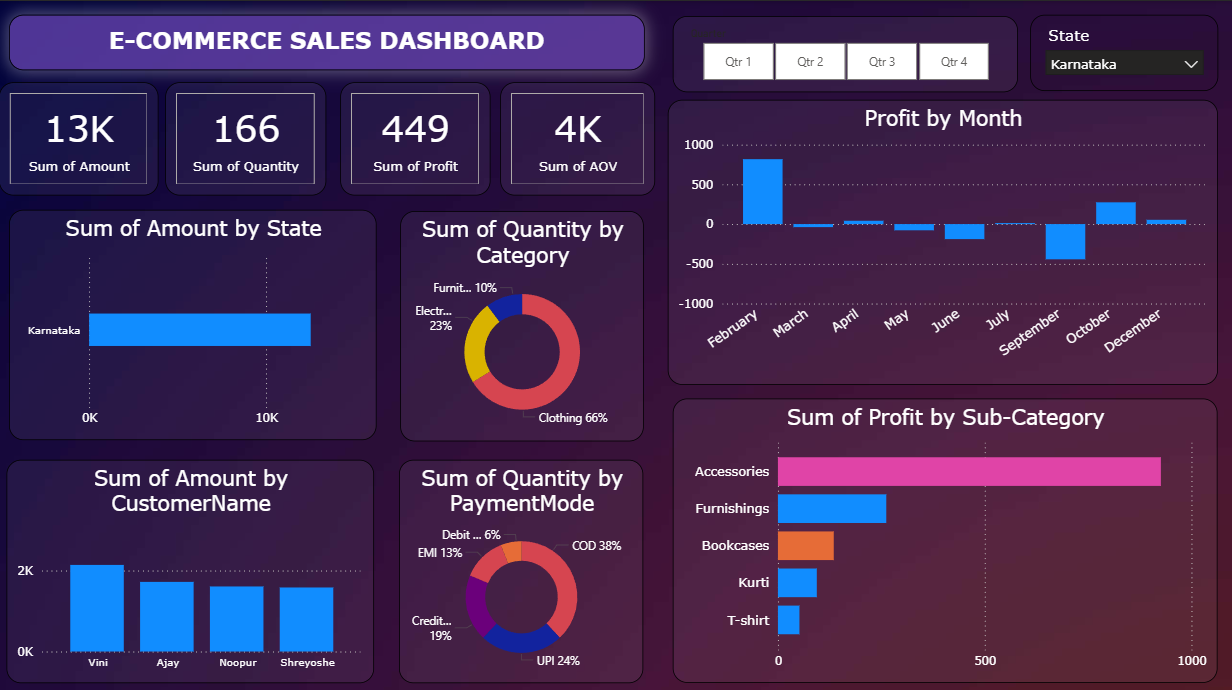

Layout of this report page (visuals, bound fields, positions):
{"tool":"powerbi","page":{"name":"Page 1","canvas":[1280,720],"ordinal":0},"visuals":[{"type":"textbox","box":[9.8,14.7,660.1,57.7],"z":0},{"type":"columnChart","title":"Profit by Month","fields":{"Category":["Orders.Order Date.Variation.Date Hierarchy.Month"],"Y":["Details.Profit"]},"box":[694.3,102.9,570.8,296.4],"z":1000},{"type":"barChart","fields":{"Category":["Details.Sub-Category"],"Y":["Details.Profit"]},"box":[699.8,413,565.4,295],"z":2000},{"type":"donutChart","fields":{"Y":["Details.Quantity"],"Category":["Details.Category"]},"box":[417.2,218.4,252.8,239.3],"z":3000},{"type":"donutChart","fields":{"Category":["Details.PaymentMode"],"Y":["Details.Quantity"]},"box":[415.8,476.2,253.9,231.9],"z":4000},{"type":"cardVisual","fields":{"Data":["Details.Amount"]},"box":[0,84.7,165.6,117.8],"z":5000},{"type":"cardVisual","fields":{"Data":["Details.Quantity"]},"box":[173,84.7,166.9,117.8],"z":6000},{"type":"cardVisual","fields":{"Data":["Details.Profit"]},"box":[354.6,84.7,155.8,117.8],"z":7000},{"type":"cardVisual","fields":{"Data":["Details.AverageOrderValue"]},"box":[520.2,84.7,160.7,117.8],"z":8000},{"type":"barChart","fields":{"Y":["Details.Amount"],"Category":["Orders.State"]},"box":[9.8,217.2,381.6,239.3],"z":9000},{"type":"columnChart","fields":{"Category":["Orders.CustomerName"],"Y":["Details.Amount"]},"box":[8.2,476.2,381.5,231.9],"z":10000},{"type":"slicer","fields":{"Values":["Orders.Order Date.Variation.Date Hierarchy.Quarter"]},"box":[699.8,15.1,358.1,79.6],"z":11000},{"type":"slicer","fields":{"Values":["Orders.State"]},"box":[1070,14.8,195.4,79.5],"z":12000}]}

Visuals, with their boxes in screenshot pixels (x1, y1, x2, y2), scaled from the page's 1280x720 canvas onto the 1232x690 screenshot:
textbox: pyautogui.locateOnScreen(9, 14, 645, 69)
"Profit by Month" columnChart: pyautogui.locateOnScreen(668, 99, 1218, 383)
barChart - Details.Sub-Category x Details.Profit: pyautogui.locateOnScreen(674, 396, 1218, 678)
donutChart - Details.Quantity x Details.Category: pyautogui.locateOnScreen(402, 209, 645, 439)
donutChart - Details.PaymentMode x Details.Quantity: pyautogui.locateOnScreen(400, 456, 645, 679)
cardVisual - Details.Amount: pyautogui.locateOnScreen(0, 81, 159, 194)
cardVisual - Details.Quantity: pyautogui.locateOnScreen(167, 81, 327, 194)
cardVisual - Details.Profit: pyautogui.locateOnScreen(341, 81, 491, 194)
cardVisual - Details.AverageOrderValue: pyautogui.locateOnScreen(501, 81, 655, 194)
barChart - Details.Amount x Orders.State: pyautogui.locateOnScreen(9, 208, 377, 437)
columnChart - Orders.CustomerName x Details.Amount: pyautogui.locateOnScreen(8, 456, 375, 679)
slicer - Orders.Order Date.Variation.Date Hierarchy.Quarter: pyautogui.locateOnScreen(674, 14, 1018, 91)
slicer - Orders.State: pyautogui.locateOnScreen(1030, 14, 1218, 90)
